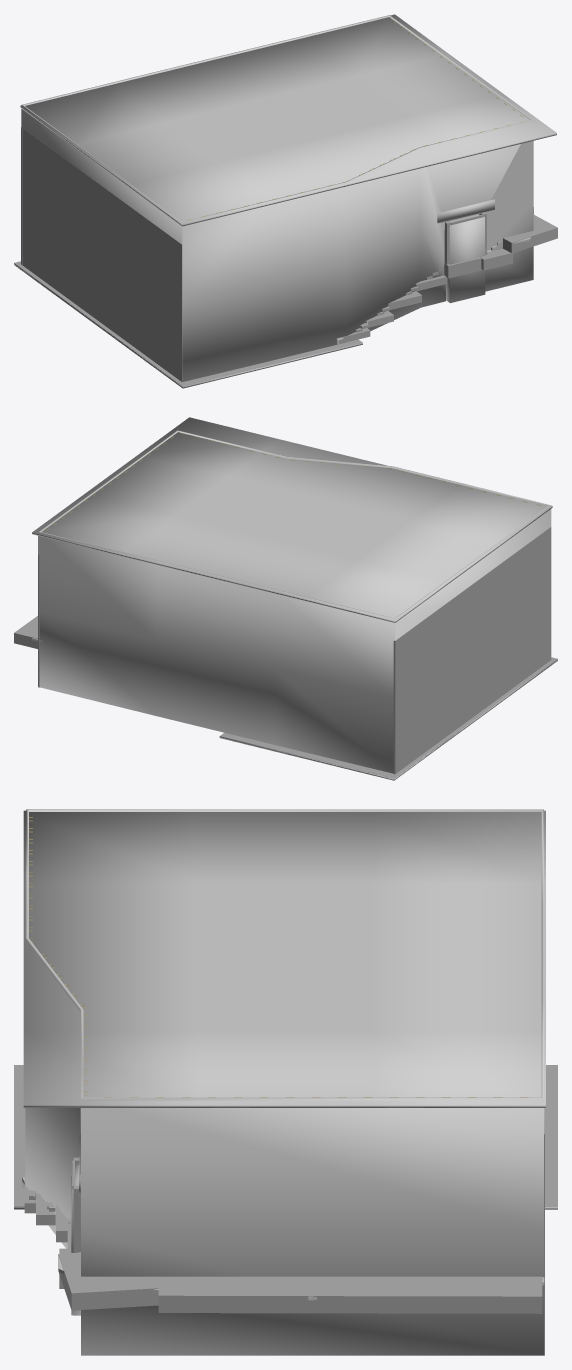
The model's file is Public_Theater.fbx.
3 renders of one model, top to bottom at view 1: azimuth 30°, elevation 25°; view 2: azimuth 150°, elevation 25°; view 3: azimuth 270°, elevation 25°, orthographic. The views are drawn at different scales.
Parts seen in each view (by area): view 1: AIO_Roof, pPlane1, pCube59, pCube106, pCube72, AIO_Floor, Public_Plate, pCube70, pCube73; view 2: pPlane1, AIO_Roof, pCube59, pCube106, AIO_Floor, pCube71; view 3: AIO_Roof, pPlane1, pCube71, pCube72, pCube106.
Boxes of the visible parts, x1,y1,x2,y2 form: AIO_Roof: (20, 14, 556, 226); pPlane1: (21, 15, 533, 381); pCube59: (21, 127, 182, 381); pCube106: (14, 261, 362, 388); pCube72: (503, 215, 557, 253); AIO_Floor: (14, 263, 362, 388); Public_Plate: (437, 199, 494, 223); pCube70: (444, 257, 481, 278); pCube73: (480, 248, 512, 270); pPlane1: (38, 430, 551, 773); AIO_Roof: (32, 417, 552, 622); pCube59: (393, 527, 551, 774); pCube106: (219, 657, 557, 779); AIO_Floor: (219, 664, 551, 780); pCube71: (14, 616, 37, 648); AIO_Roof: (23, 810, 545, 1107); pPlane1: (25, 809, 544, 1355); pCube71: (158, 1276, 542, 1313); pCube72: (58, 1252, 171, 1310); pCube106: (14, 1065, 557, 1206).
Size of the model in its own units: 3215 by 1257 by 2369.
